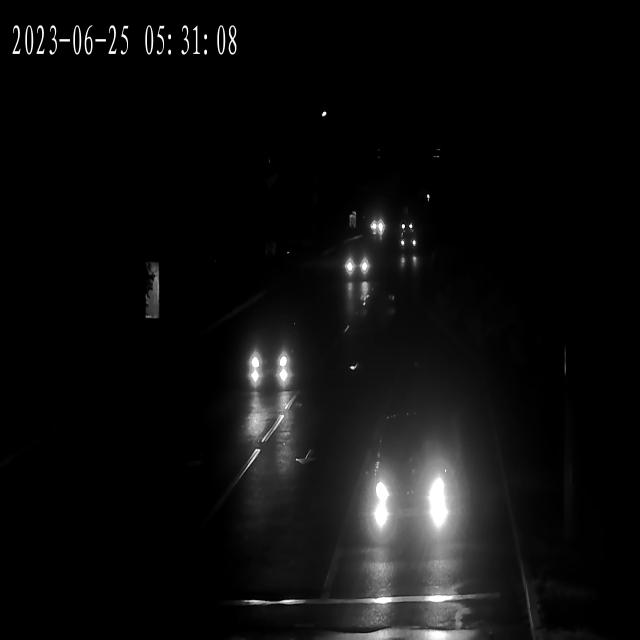Car: (366, 421, 462, 552), (244, 328, 299, 396), (337, 237, 378, 290), (397, 232, 418, 261), (369, 208, 387, 236), (401, 212, 416, 232)
